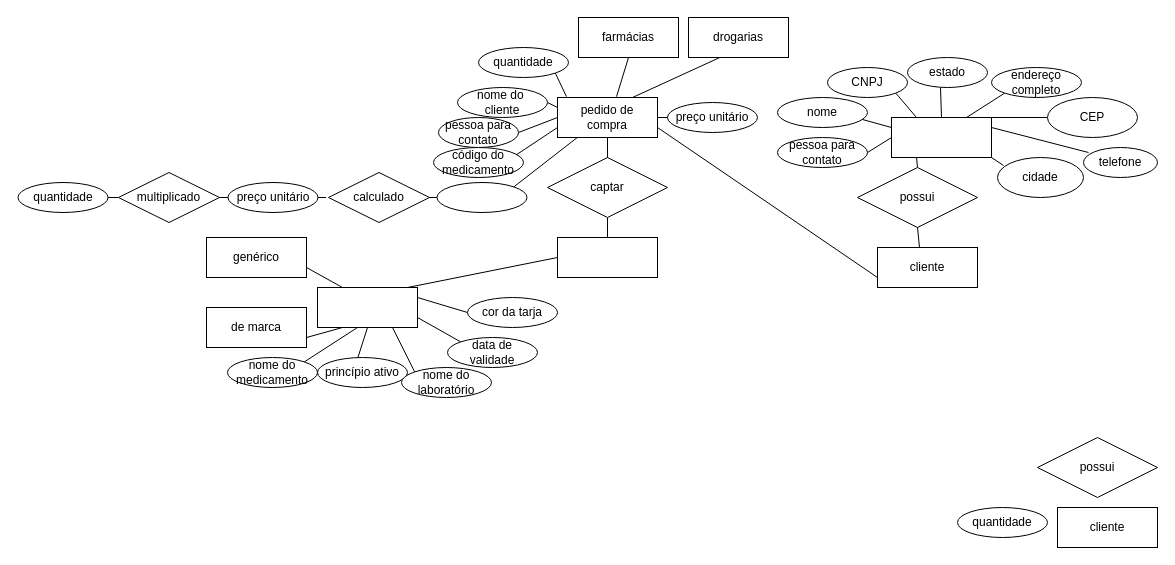
Image size: 1175x565. Some labels were removed from this diagram. The box of each missing label's shape, as (x1, y1, x2, y2) in pixels:
empresa: (556, 236, 658, 278)
ficha cadastral: (890, 116, 992, 158)
medicamentos: (316, 286, 418, 328)
valor total: (436, 182, 527, 212)
